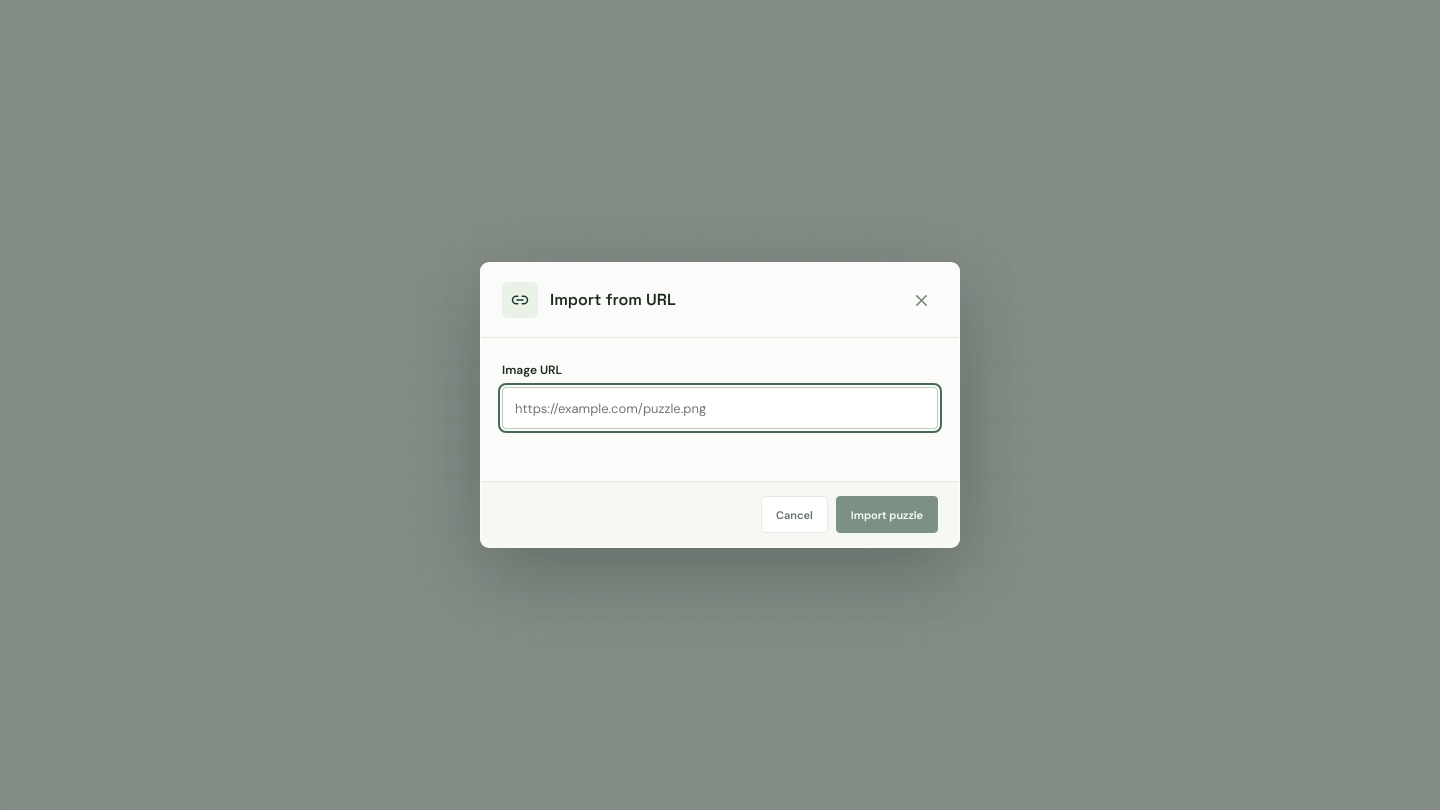
reports a processing failure without refreshing the library
Type "https://images.test/puzzle.png" into the field labelled "Image URL" at (720, 408), box top-left (502, 387), bottom-right (938, 429)
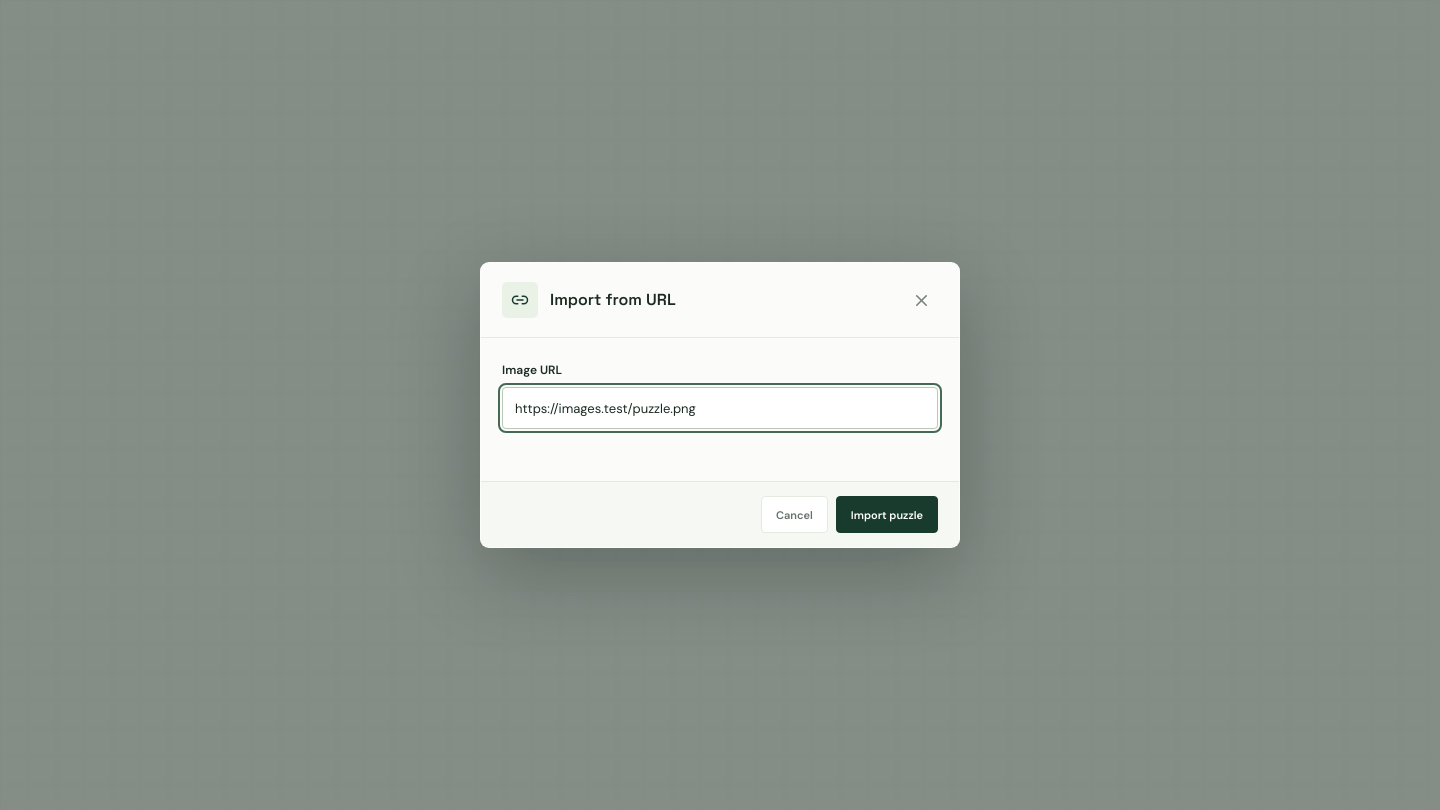
Click the button "Import puzzle" at (887, 514), box top-left (836, 496), bottom-right (938, 533)
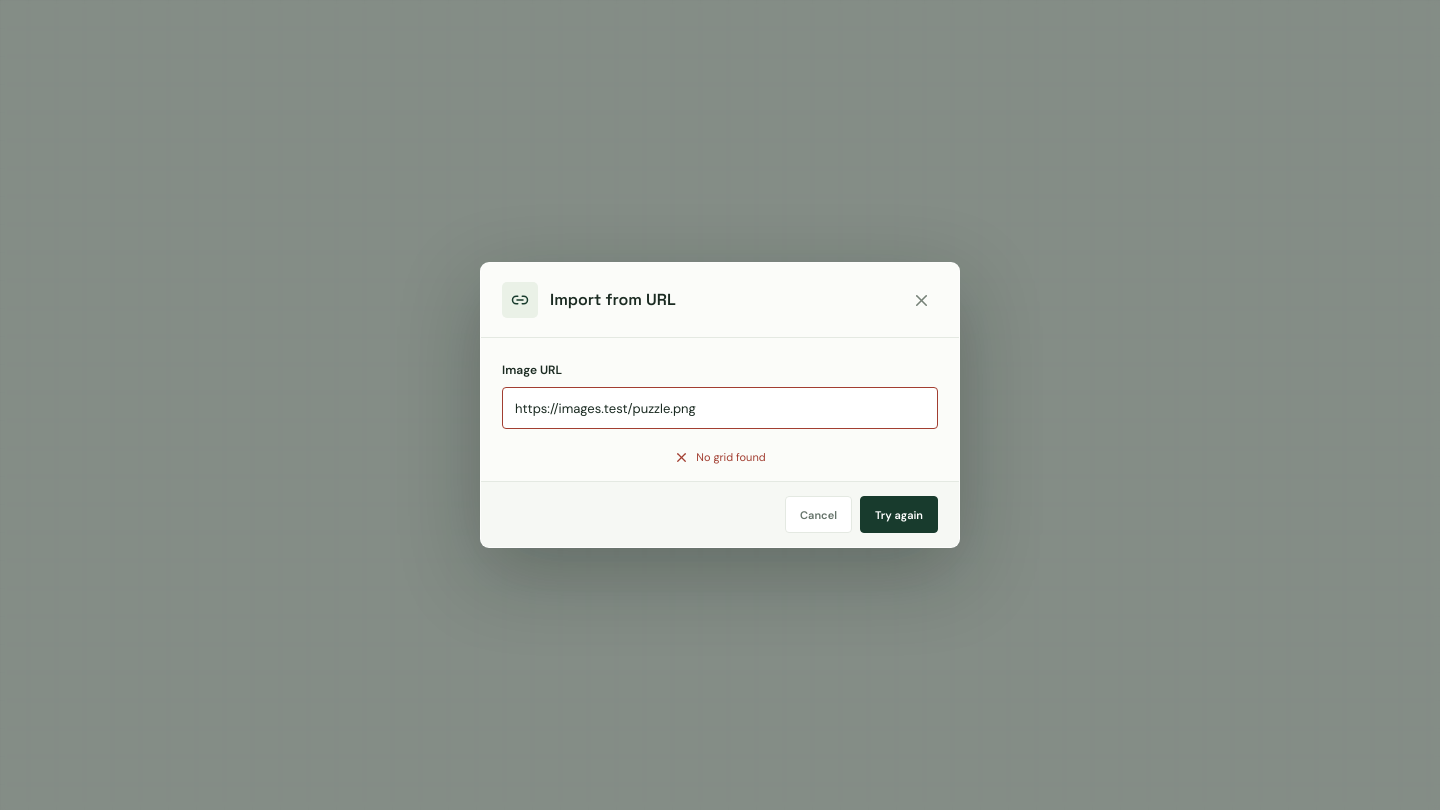
Check: the text "No grid found" is shown, box top-left (674, 450), bottom-right (766, 464)
